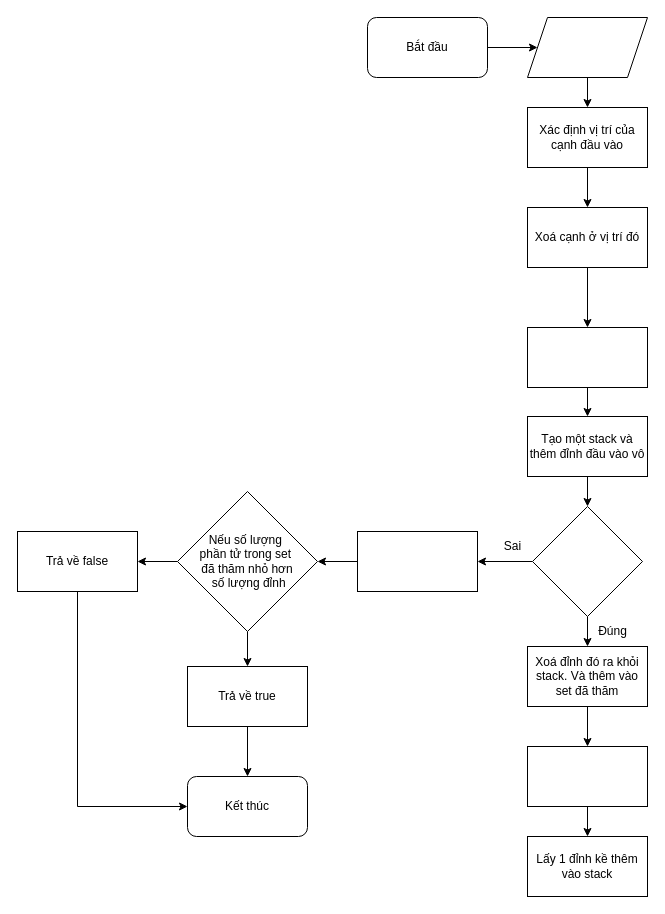
Image size: 665x914. Some labels were removed from this diagram. Each missing label, with the centre of its shape:
Nếu stack có chứa đỉnh bất kỳ: the point at 587,561
Thêm cạnh đã xoá vô lại: the point at 417,561
Tạo một set để chứa đỉnh đã thăm: the point at 587,357
Với mỗi cạnh trong đồ thị: the point at 587,776
Đỉnh đầu vào Cạnh đàu vào: the point at 587,47
